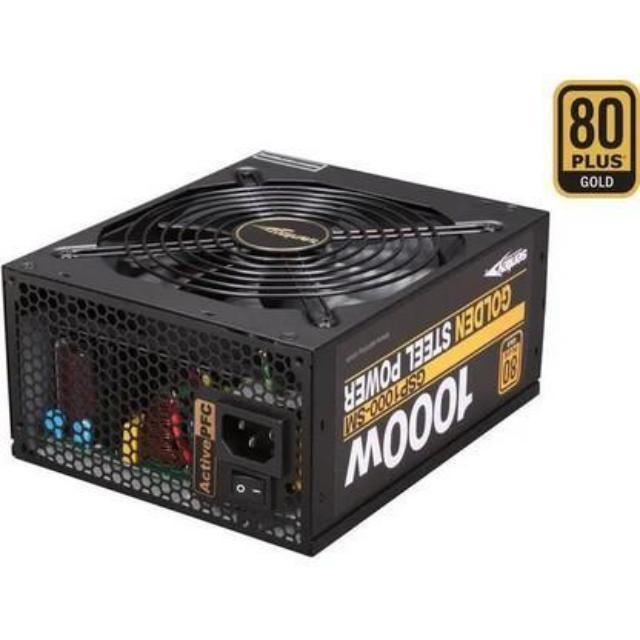PSU: (0, 124, 555, 570)
